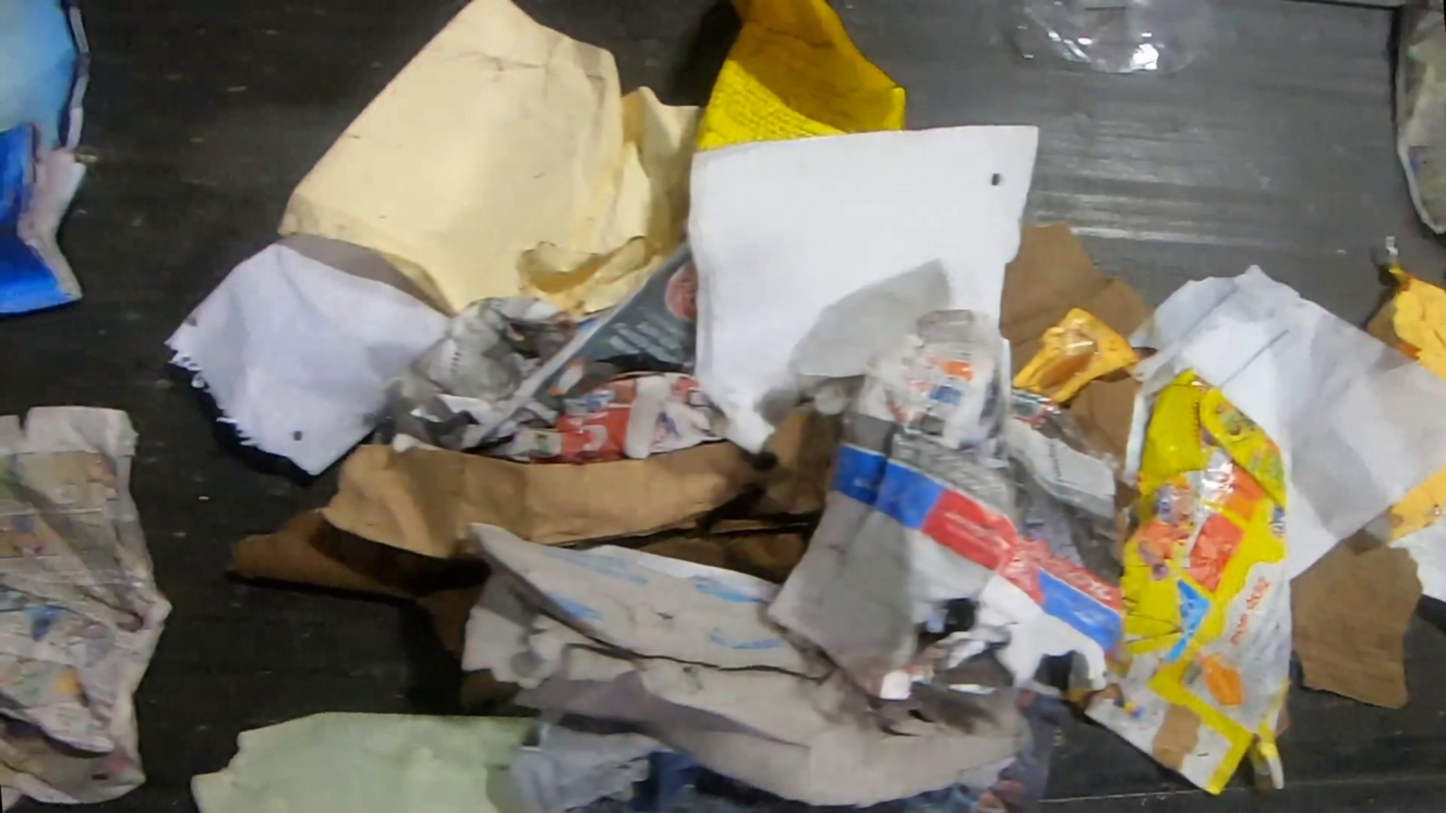cardboard: (757, 309, 1125, 702), (1078, 362, 1295, 798), (308, 438, 824, 562), (688, 0, 910, 155), (1291, 526, 1425, 711), (1364, 262, 1446, 381), (1383, 458, 1446, 545)
plastic: (1002, 0, 1220, 77), (1011, 306, 1144, 407)
